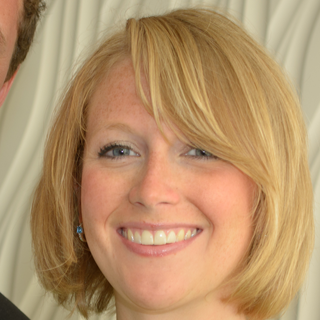eye: (177, 141, 225, 165), (96, 139, 142, 164)
